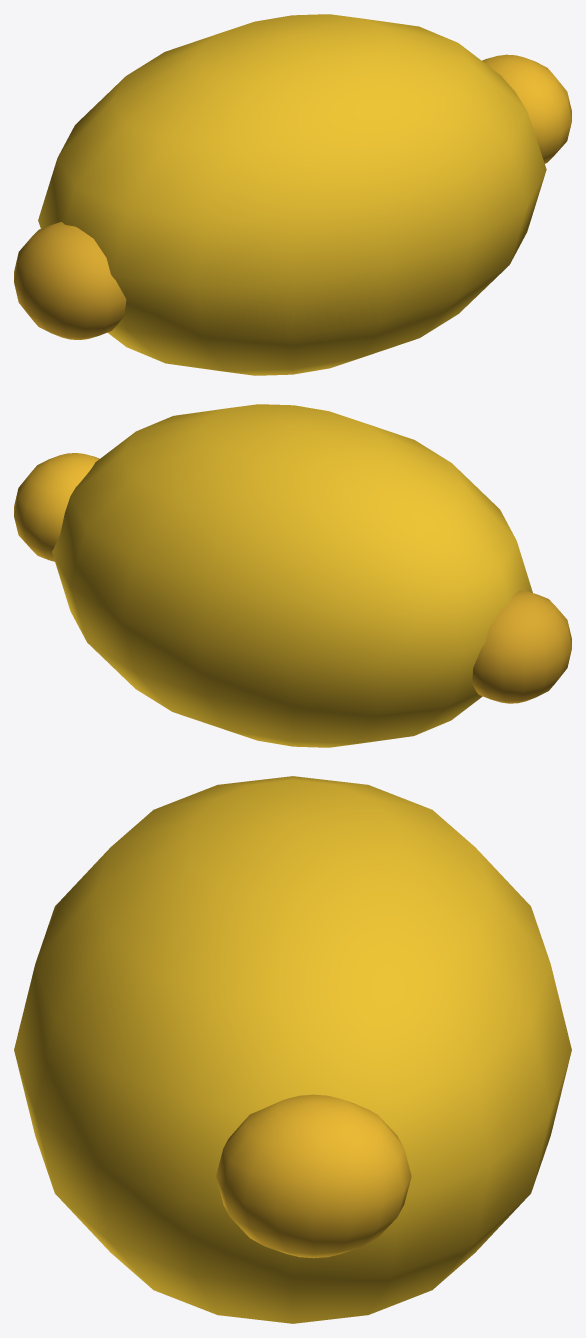
File: CMU3DYellowLemon.glb
3 views of the same model, one above another, from view 1: azimuth 30°, elevation 25°; view 2: azimuth 150°, elevation 25°; view 3: azimuth 270°, elevation 25° (orthographic). The views are drawn at different scales.
Visible parts, largest first — view 1: lemon body, lemon left tip, lemon right tip; view 2: lemon body, lemon left tip, lemon right tip; view 3: lemon body, lemon right tip.
Part boxes in pixels (x1=…): lemon body: x1=38, y1=14, x2=546, y2=375; lemon left tip: x1=14, y1=222, x2=126, y2=339; lemon right tip: x1=482, y1=54, x2=571, y2=163; lemon body: x1=52, y1=404, x2=532, y2=747; lemon left tip: x1=472, y1=590, x2=571, y2=703; lemon right tip: x1=14, y1=453, x2=99, y2=561; lemon body: x1=14, y1=776, x2=571, y2=1323; lemon right tip: x1=216, y1=1094, x2=411, y2=1258.
Size of the model in its own units: 0.437 by 0.238 by 0.268.
